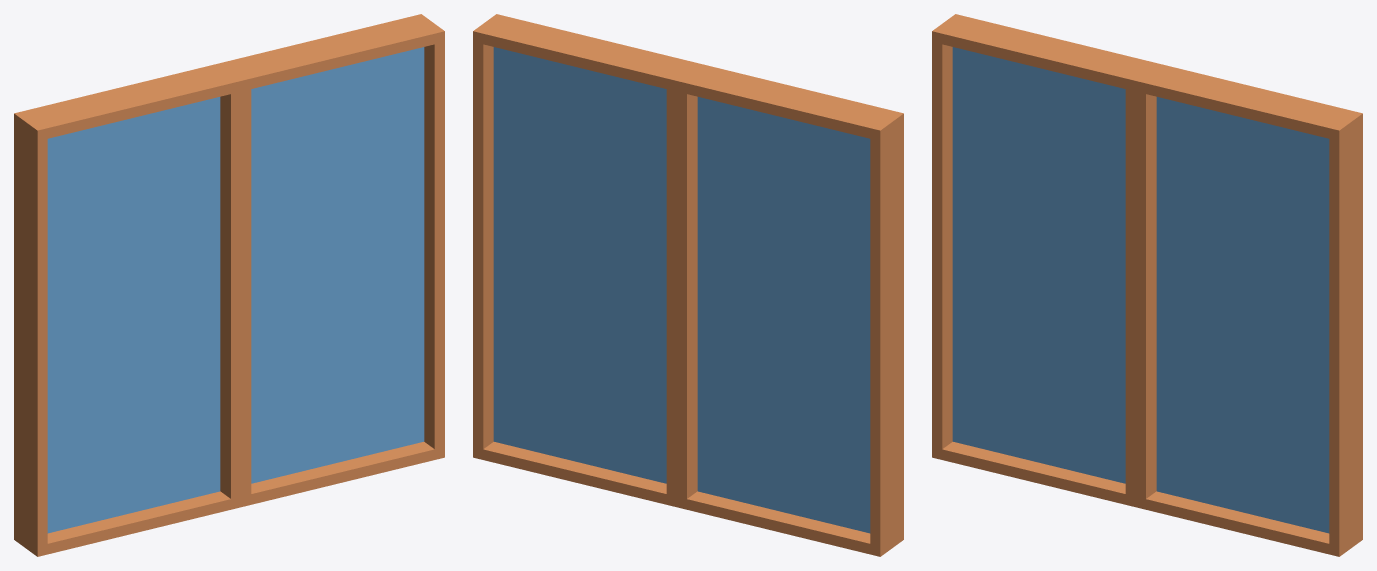
The model's file is factory_deco_window.fbx.
3 views of the same model, side by side, from view 1: azimuth 30°, elevation 25°; view 2: azimuth 150°, elevation 25°; view 3: azimuth 330°, elevation 25° (orthographic).
Parts seen in each view (by area): view 1: factory_deco_window; view 2: factory_deco_window; view 3: factory_deco_window.
Boxes of the visible parts, x1=… form: factory_deco_window: x1=14, y1=14, x2=444, y2=556; factory_deco_window: x1=473, y1=14, x2=903, y2=556; factory_deco_window: x1=932, y1=14, x2=1362, y2=556.
Bounding box in the file's own units: 200 × 200 × 20.
